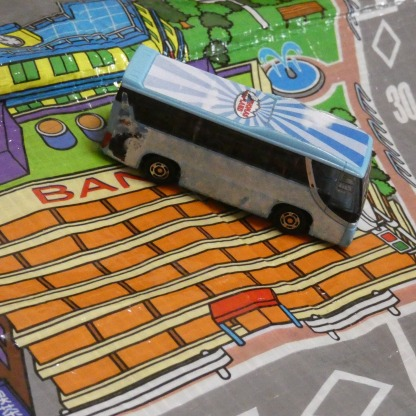car: (99, 43, 370, 255)
